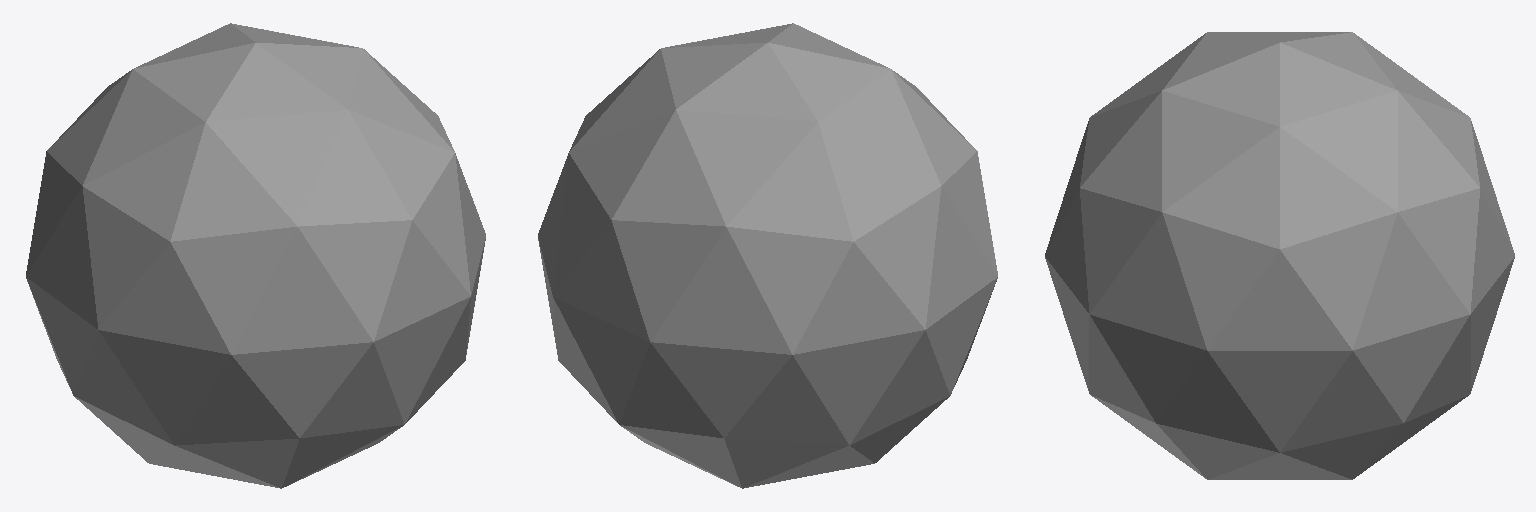
File: bullet_e.obj
The picture shows the model from 3 angles: view 1: azimuth 30°, elevation 25°; view 2: azimuth 150°, elevation 25°; view 3: azimuth 270°, elevation 25°; orthographic projection.
Parts seen in each view (by area): view 1: Icosphere; view 2: Icosphere; view 3: Icosphere.
Boxes of the visible parts, box(x1,y1,x2,y2) form: Icosphere: box(26, 23, 485, 488); Icosphere: box(538, 23, 997, 488); Icosphere: box(1045, 32, 1514, 479).
Bounding box in the file's own units: 0.3499 × 0.3679 × 0.3679.